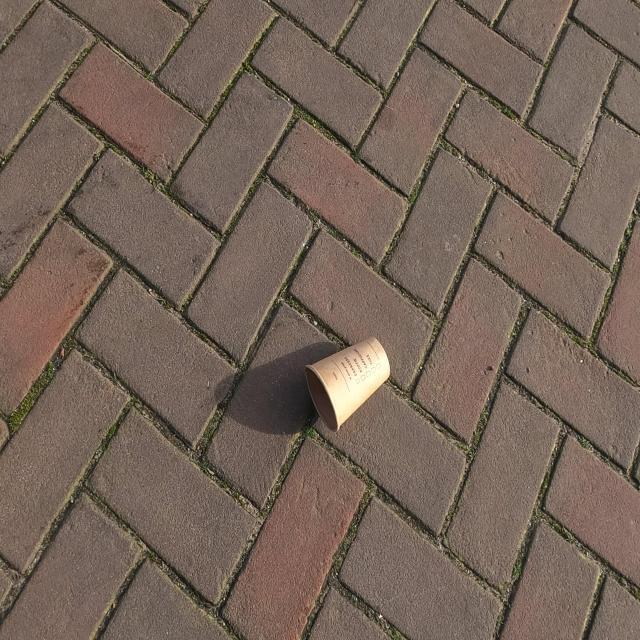Cup: (306, 318, 394, 434)
